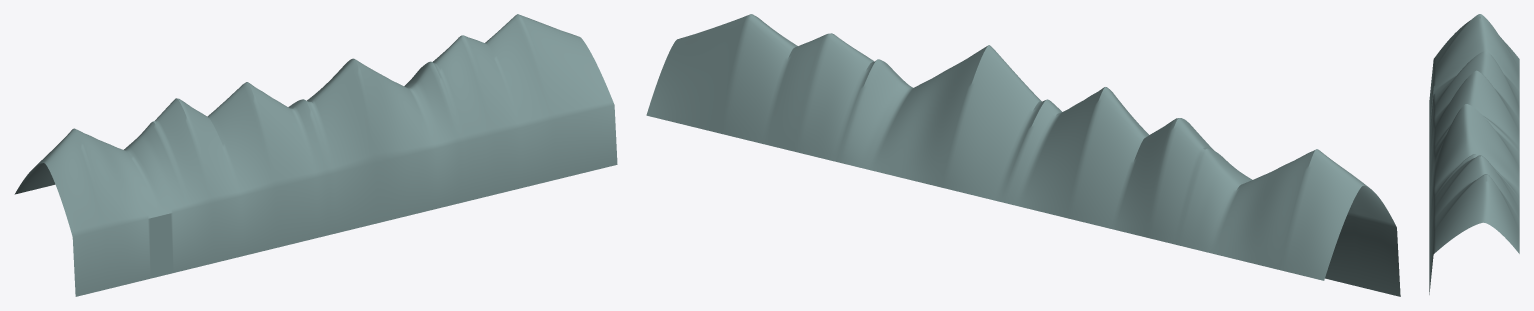
The model's file is range_meadow_far.glb.
3 renders of one model, left to right at view 1: azimuth 30°, elevation 25°; view 2: azimuth 150°, elevation 25°; view 3: azimuth 270°, elevation 25°, orthographic. The views are drawn at different scales.
Parts seen in each view (by area): view 1: land; view 2: land; view 3: land.
Part boxes in pixels (x1,y1,x2,y2): land: (14,14,617,296); land: (646,14,1400,296); land: (1429,14,1519,294).
Size of the model in its own units: 520 by 133 by 102.
